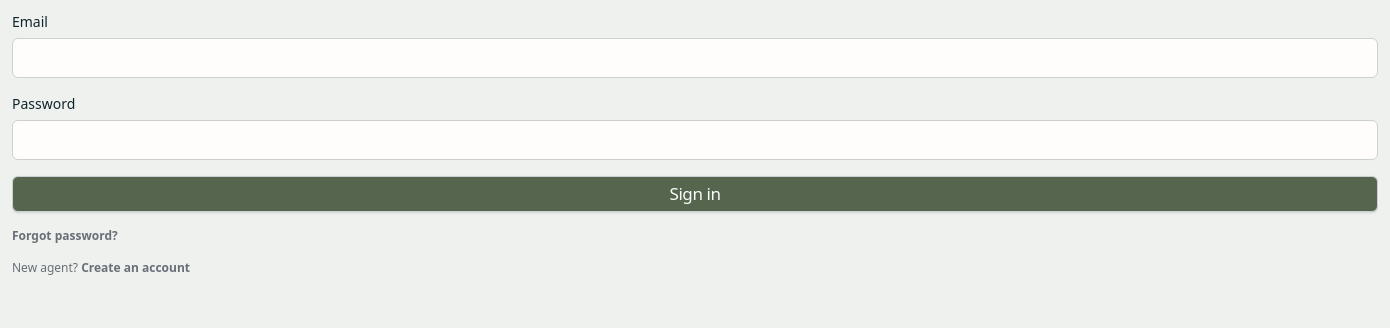
AgentLoginForm › shows invalid credentials and does not navigate
Type "agent@example.com" into the field labelled "Email".
click(695, 58); type("agent@example.com")  # box [12,38,1378,78]
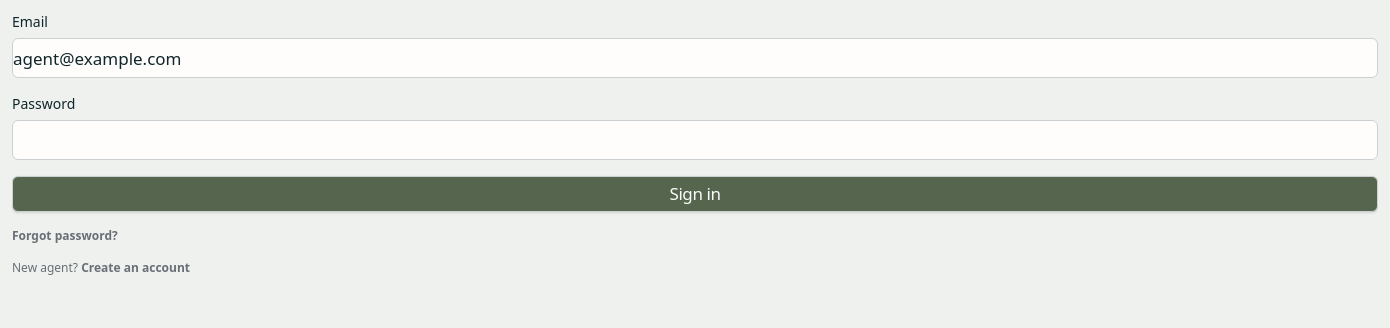
Type "wrong" into the password field labelled "Password".
click(695, 140); type("wrong")  # box [12,120,1378,160]
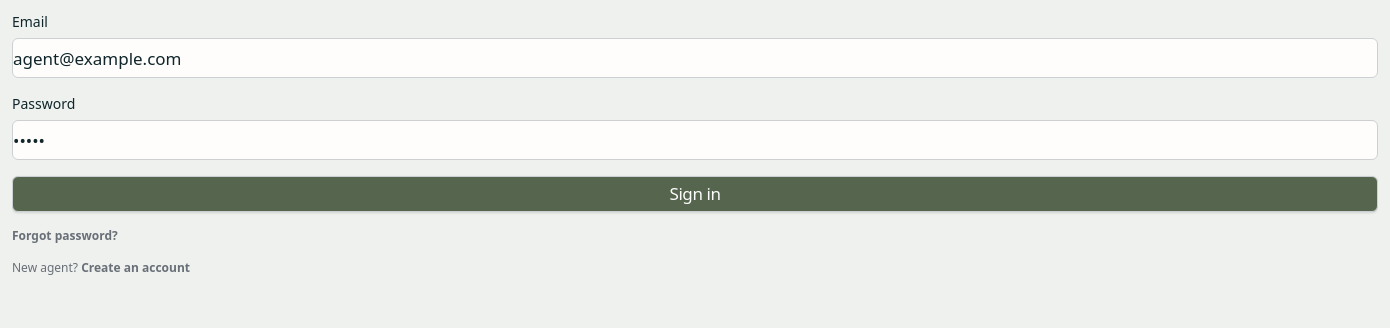
Click the button "Sign in".
click(695, 194)  # box [12,176,1378,212]
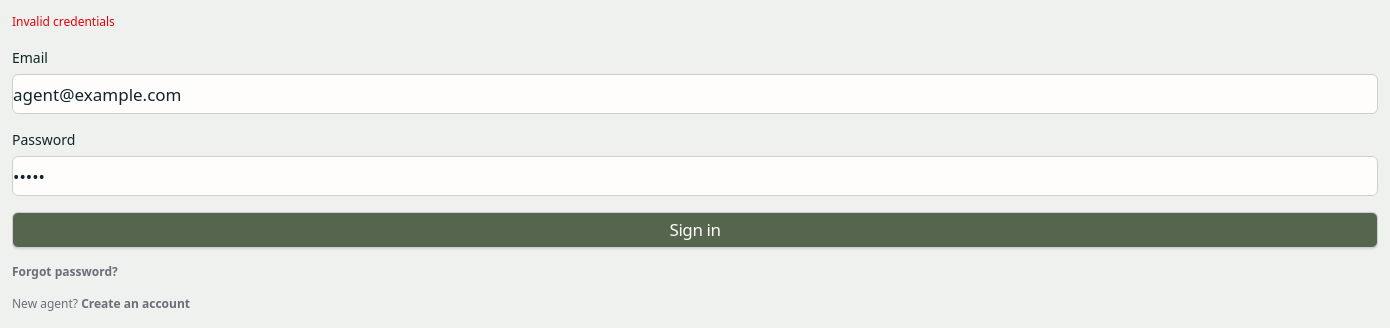
Expected: the text "Invalid credentials" is shown, [12,13,115,30]
